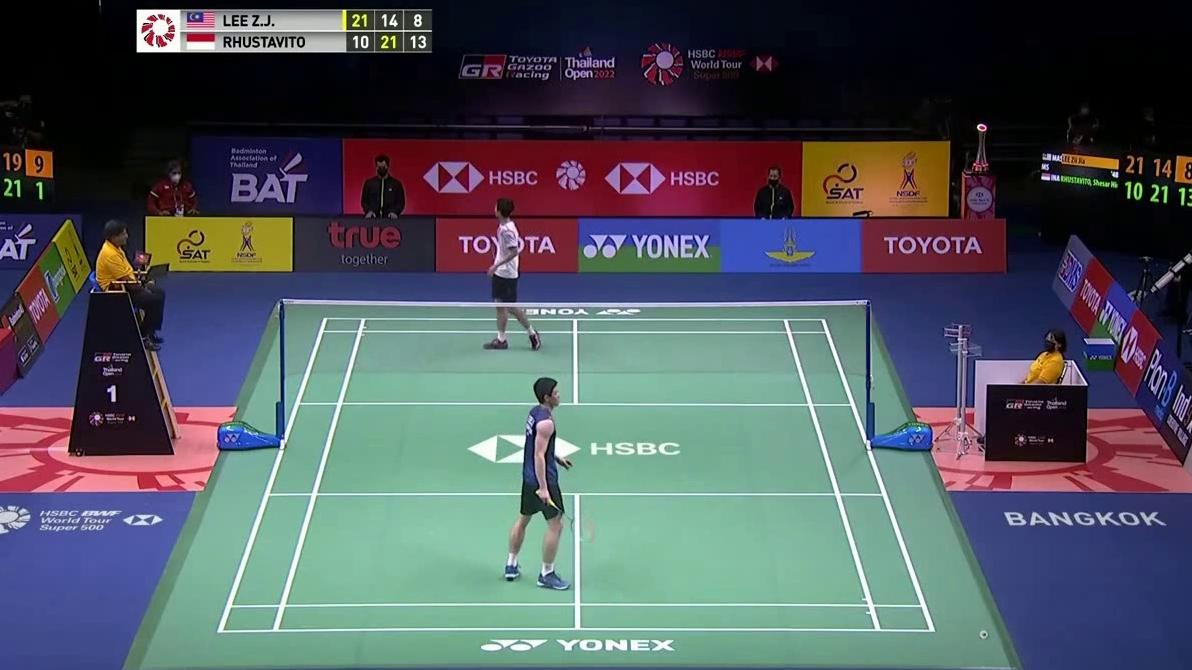racket: (536, 489, 596, 544), (491, 244, 498, 260)
shuttle: (979, 629, 990, 640)
